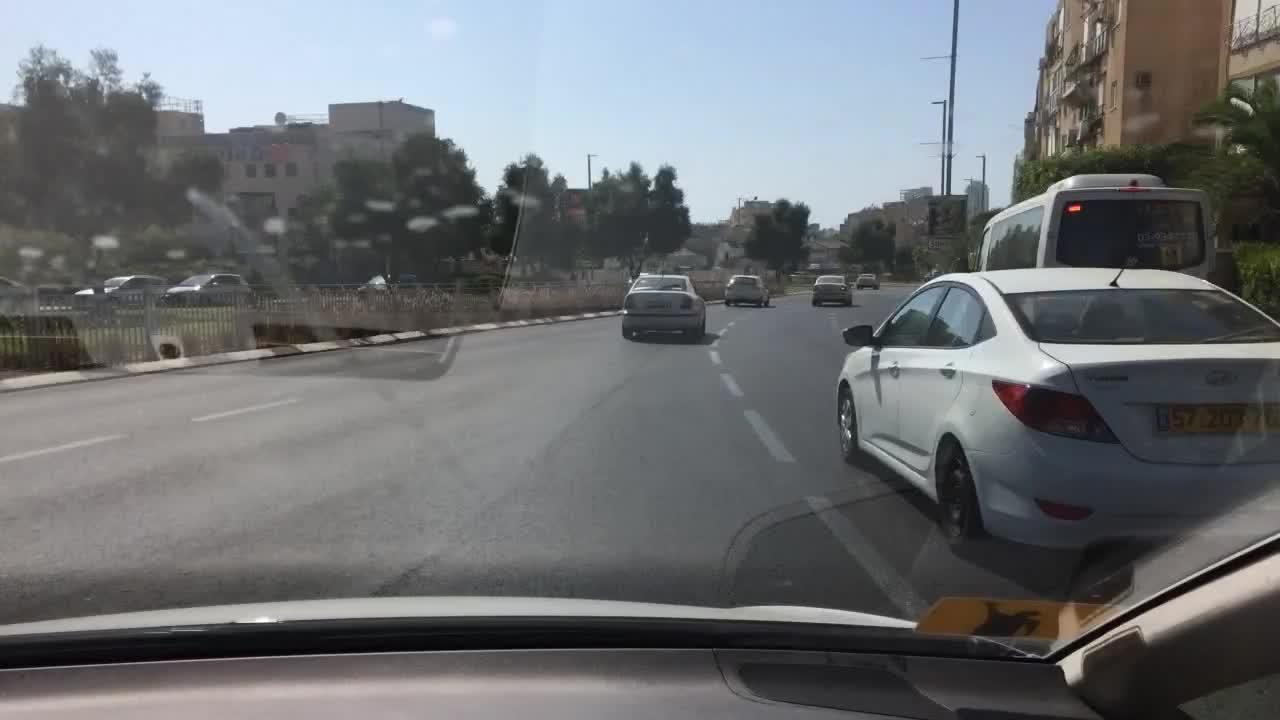Hyundai: (1191, 362, 1247, 394)
